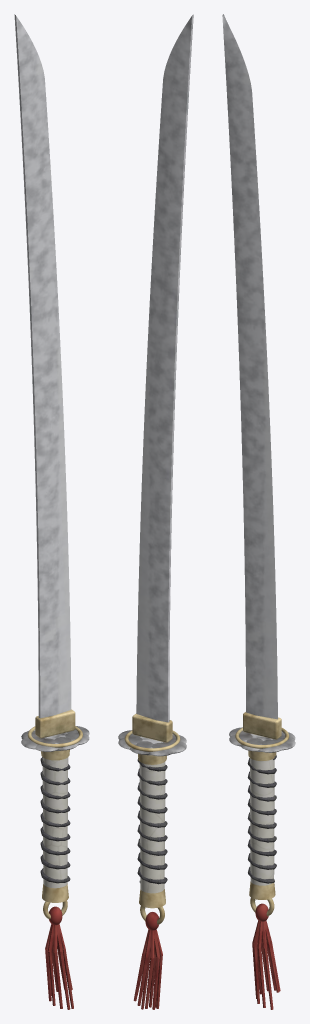
3 views of the same model, side by side, from view 1: azimuth 30°, elevation 25°; view 2: azimuth 150°, elevation 25°; view 3: azimuth 330°, elevation 25° (orthographic). The views are drawn at different scales.
Parts seen in each view (by area): view 1: metal_hamon, skin_ray, metal_brass, cloth_red, cloth_black, metal_iron; view 2: metal_hamon, skin_ray, metal_brass, cloth_red, cloth_black, metal_iron; view 3: metal_hamon, skin_ray, metal_brass, cloth_red, cloth_black, metal_iron.
Boxes of the visible parts, x1=… form: metal_hamon: x1=14, y1=14, x2=71, y2=718; skin_ray: x1=42, y1=757, x2=68, y2=888; metal_brass: x1=27, y1=709, x2=82, y2=919; cloth_red: x1=45, y1=906, x2=73, y2=1009; cloth_black: x1=40, y1=757, x2=70, y2=883; metal_iron: x1=21, y1=726, x2=89, y2=751; metal_hamon: x1=136, y1=14, x2=193, y2=722; skin_ray: x1=139, y1=762, x2=165, y2=893; metal_brass: x1=124, y1=713, x2=180, y2=924; cloth_red: x1=133, y1=912, x2=162, y2=1009; cloth_black: x1=137, y1=758, x2=167, y2=884; metal_iron: x1=118, y1=730, x2=186, y2=756; metal_hamon: x1=222, y1=14, x2=277, y2=719; skin_ray: x1=250, y1=758, x2=274, y2=885; metal_brass: x1=235, y1=712, x2=289, y2=916; cloth_red: x1=252, y1=903, x2=280, y2=1009; cloth_black: x1=247, y1=755, x2=276, y2=883; metal_iron: x1=229, y1=727, x2=295, y2=752.
Bounding box in the file's own units: 0.1178 × 1.55 × 0.086.
6 materials, 6 textured.
